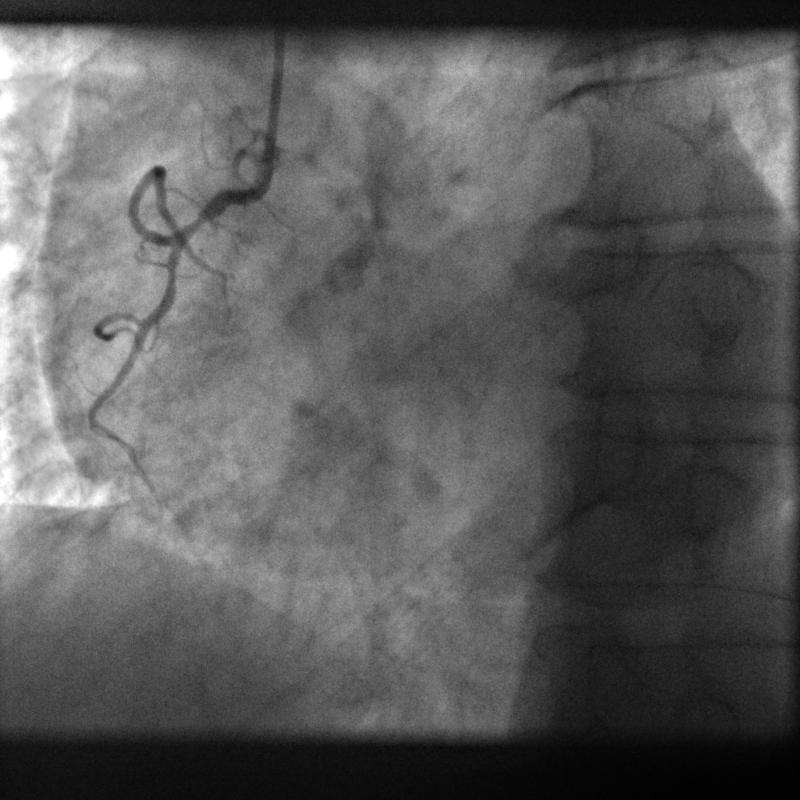Stenosis: (173, 201, 218, 240)
